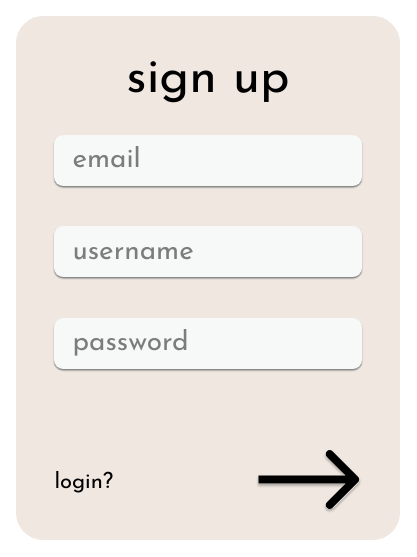
Test: Register › shows error and does not fetch when all fields are empty
The image size is (417, 557).
Step 1. Click the button named "submit" → (309, 482), box [256,450,362,514]
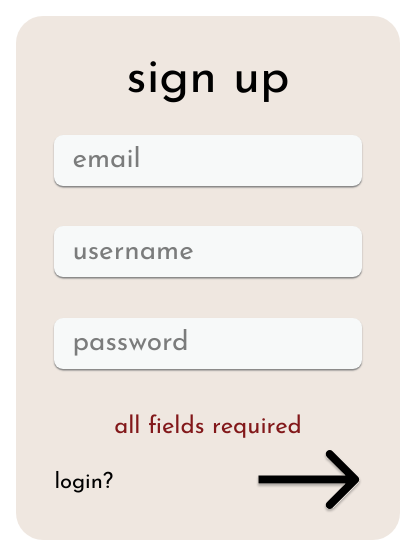
Result: the text "all fields required" is shown at [114,409,302,441]
